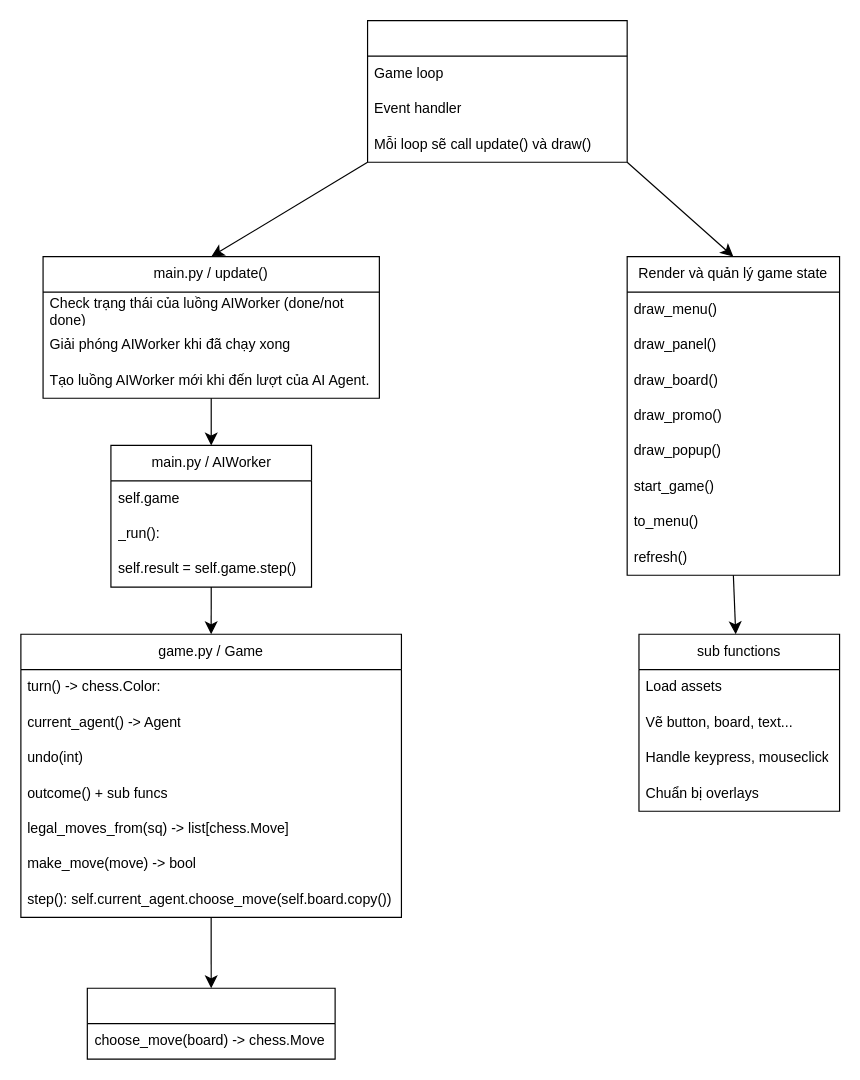
The diagram is 860 pixels wide and 1080 high, and some of its shapes have lost their labels. Each missing label, with the box of its shape:
Agent: (86, 987, 335, 1059)
main.py / run(): (366, 19, 627, 162)
